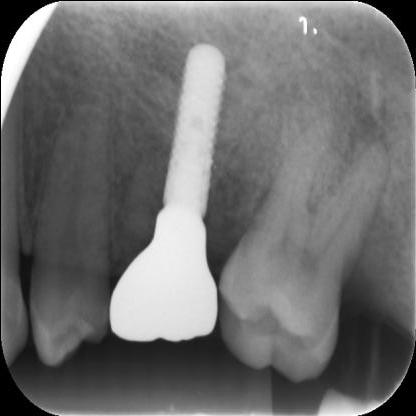ITI: (158, 40, 232, 212)
